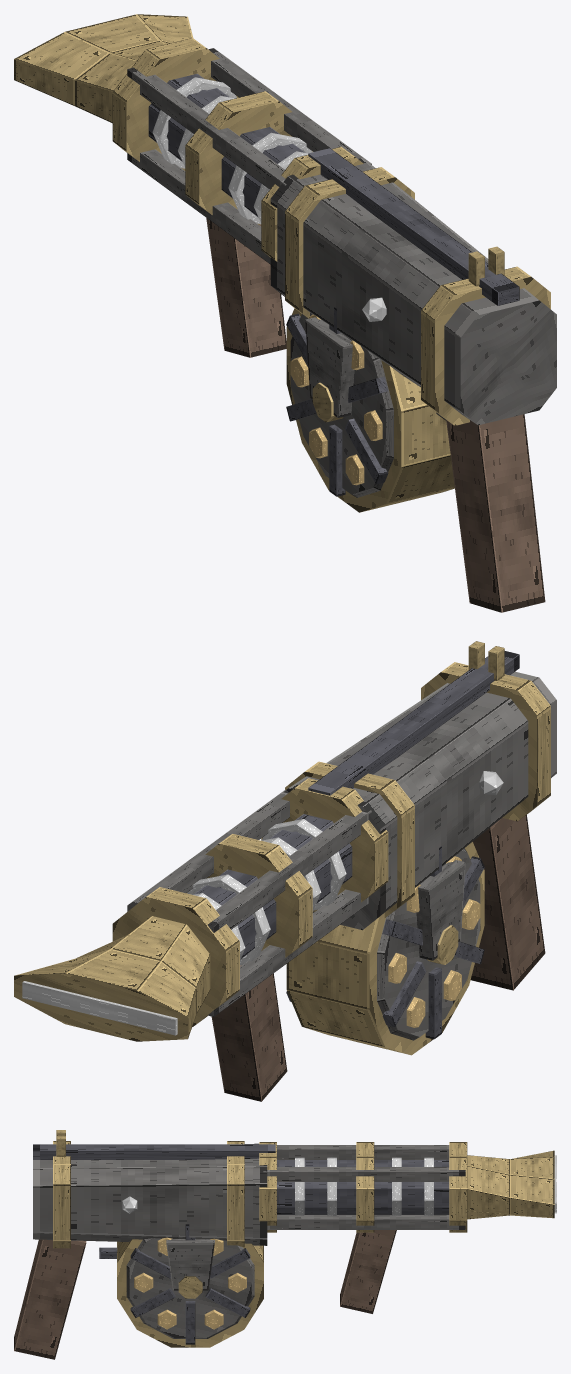
File: weapon_thresher.gltf
3 renders of one model, top to bottom at view 1: azimuth 30°, elevation 25°; view 2: azimuth 150°, elevation 25°; view 3: azimuth 270°, elevation 25°, orthographic. The views are drawn at different scales.
Visible parts, largest first — view 1: body, drum, glow, shells; view 2: body, drum, glow, shells; view 3: body, drum, glow, shells.
Boxes of the visible parts, left/top/right/bottom form: body: left=14, top=14, right=556, bottom=612; drum: left=286, top=307, right=454, bottom=512; glow: left=152, top=77, right=386, bottom=321; shells: left=290, top=314, right=382, bottom=485; body: left=14, top=641, right=556, bottom=1101; drum: left=286, top=842, right=484, bottom=1055; glow: left=22, top=771, right=503, bottom=1035; shells: left=388, top=856, right=480, bottom=1027; body: left=14, top=1130, right=554, bottom=1359; drum: left=117, top=1224, right=263, bottom=1347; glow: left=122, top=1155, right=556, bottom=1215; shells: left=134, top=1237, right=246, bottom=1329.
Bounding box in the file's own units: 0.1589 × 0.298 × 0.6713.
4 materials, 4 textured.
